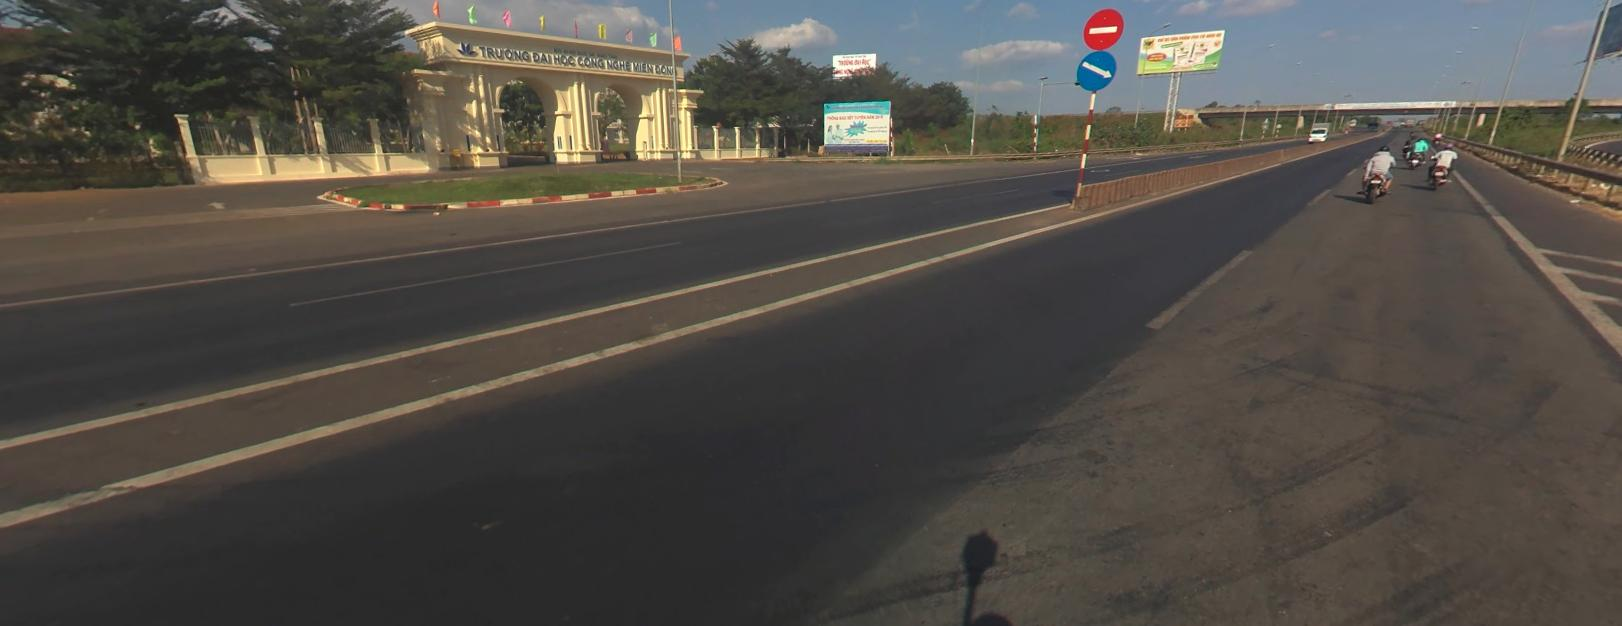Cam nguoc chieu: (1082, 7, 1124, 49)
Hieu lenh: (1075, 49, 1116, 90)
